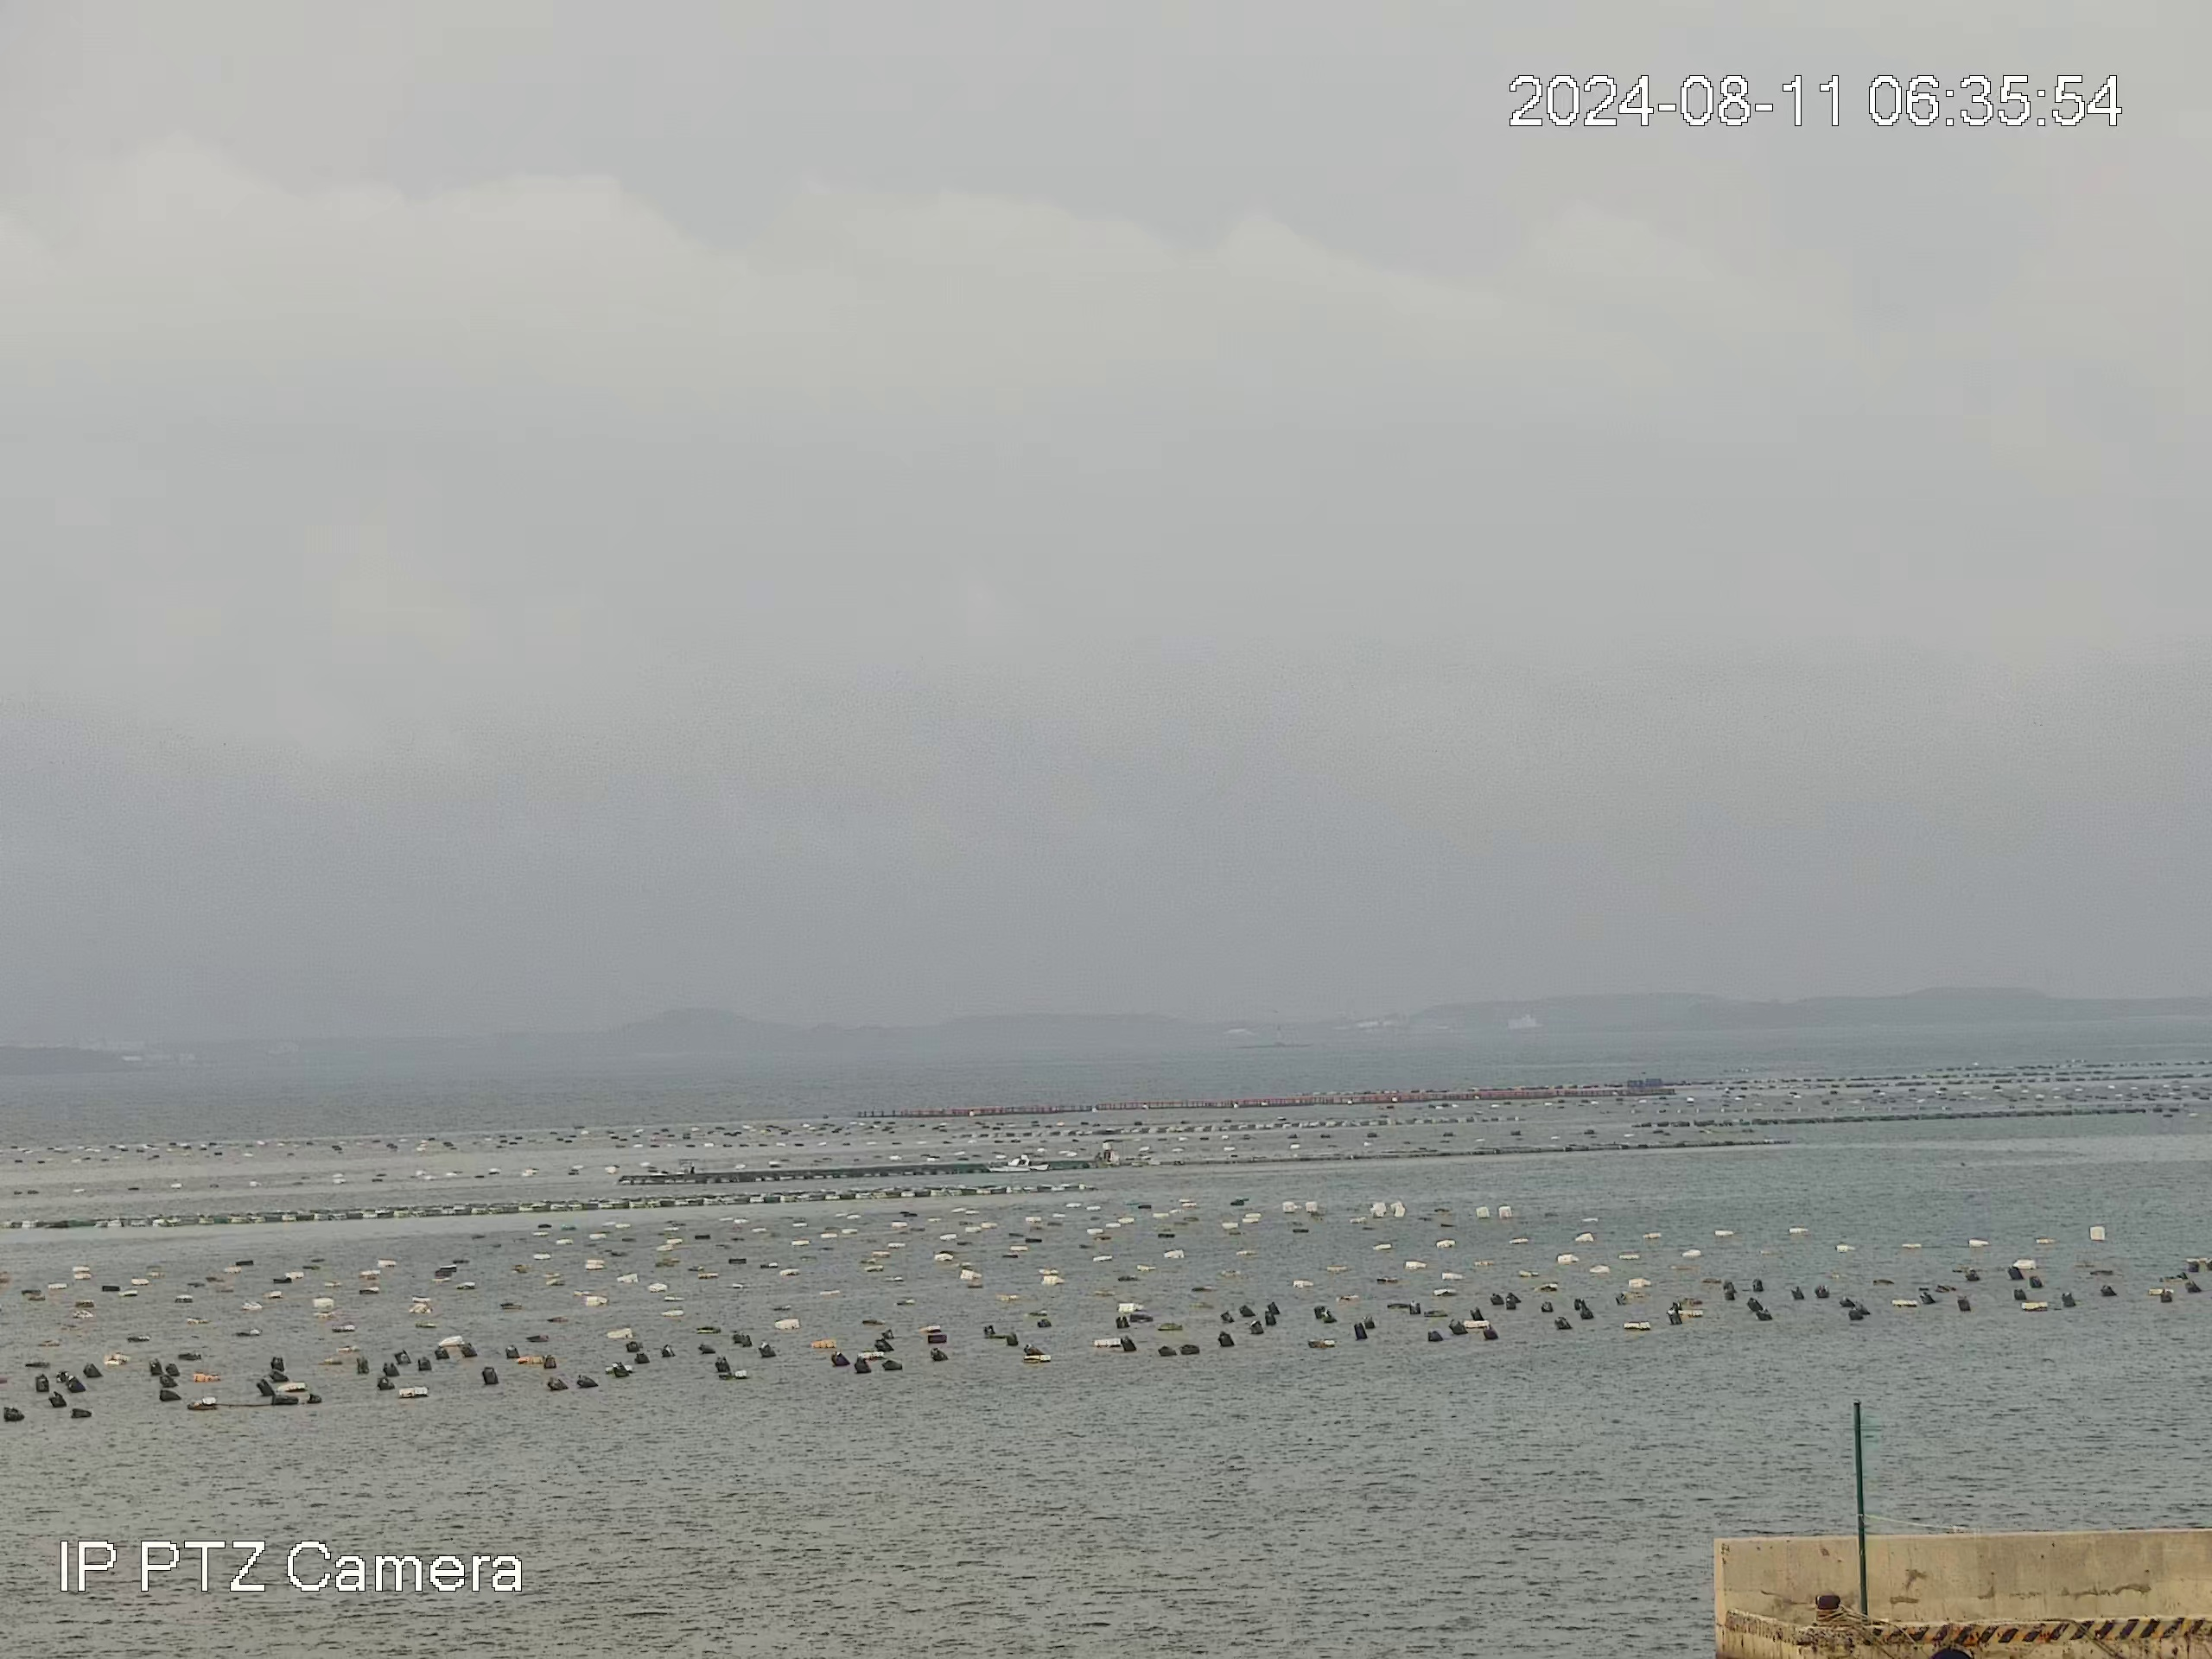boat: (982, 1152, 1054, 1175)
